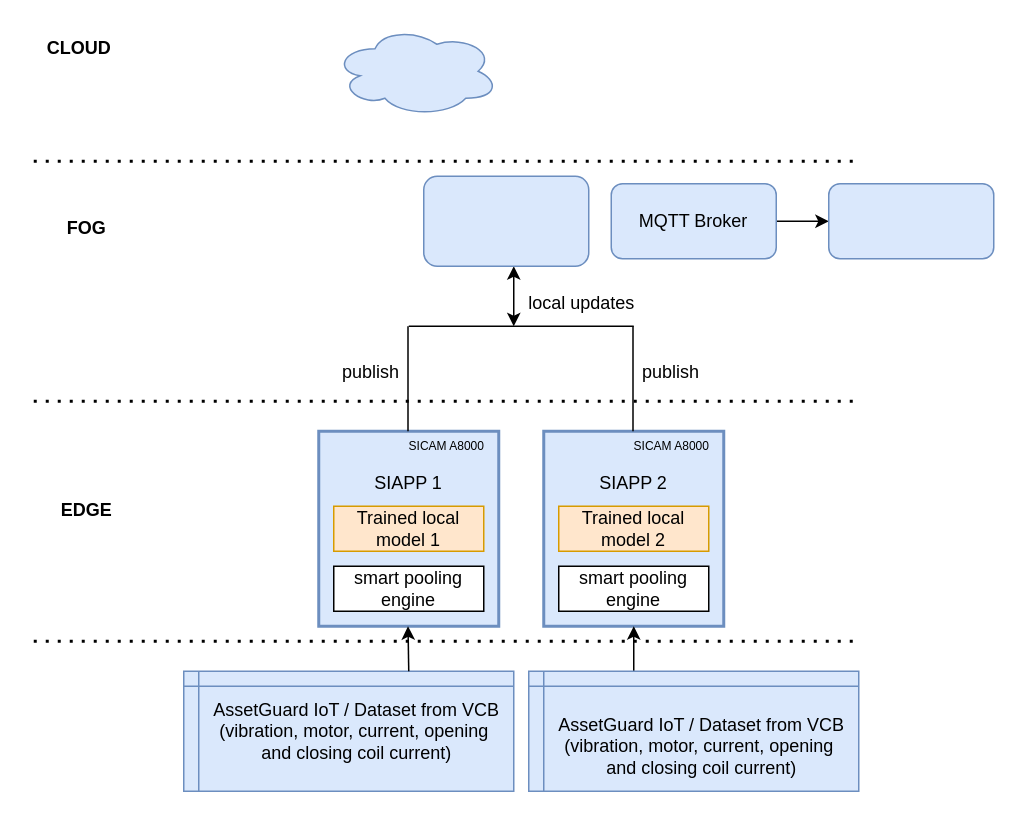
Image size: 1020x818. Some labels were removed from this diagram. The shapes that lost their labels are listed below. From the top down, each one's centre as x and y in pixels, then its label:
At (x=415, y=70): "Cloud Platform".
At (x=505, y=220): "Aggregator".
At (x=910, y=220): "Node-RED (mqtt client)".
